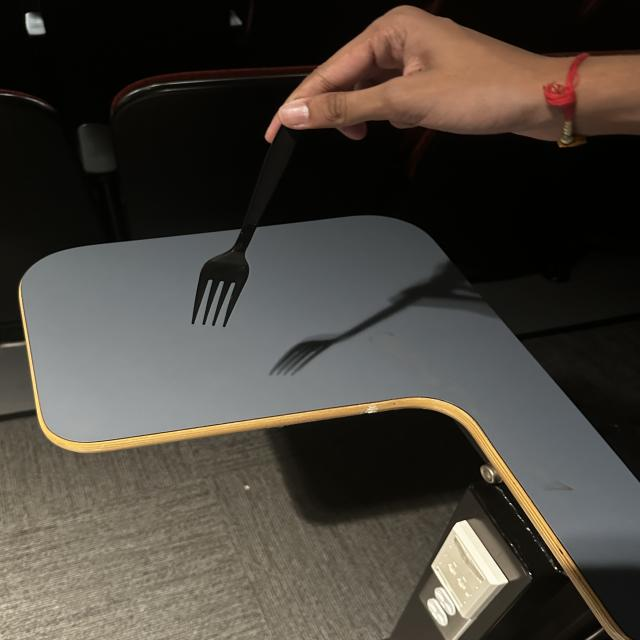fork: (138, 108, 345, 338)
